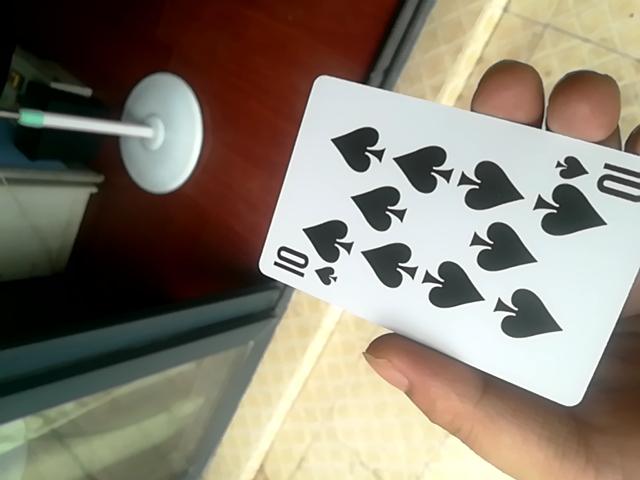ht 10: (256, 71, 640, 415)
